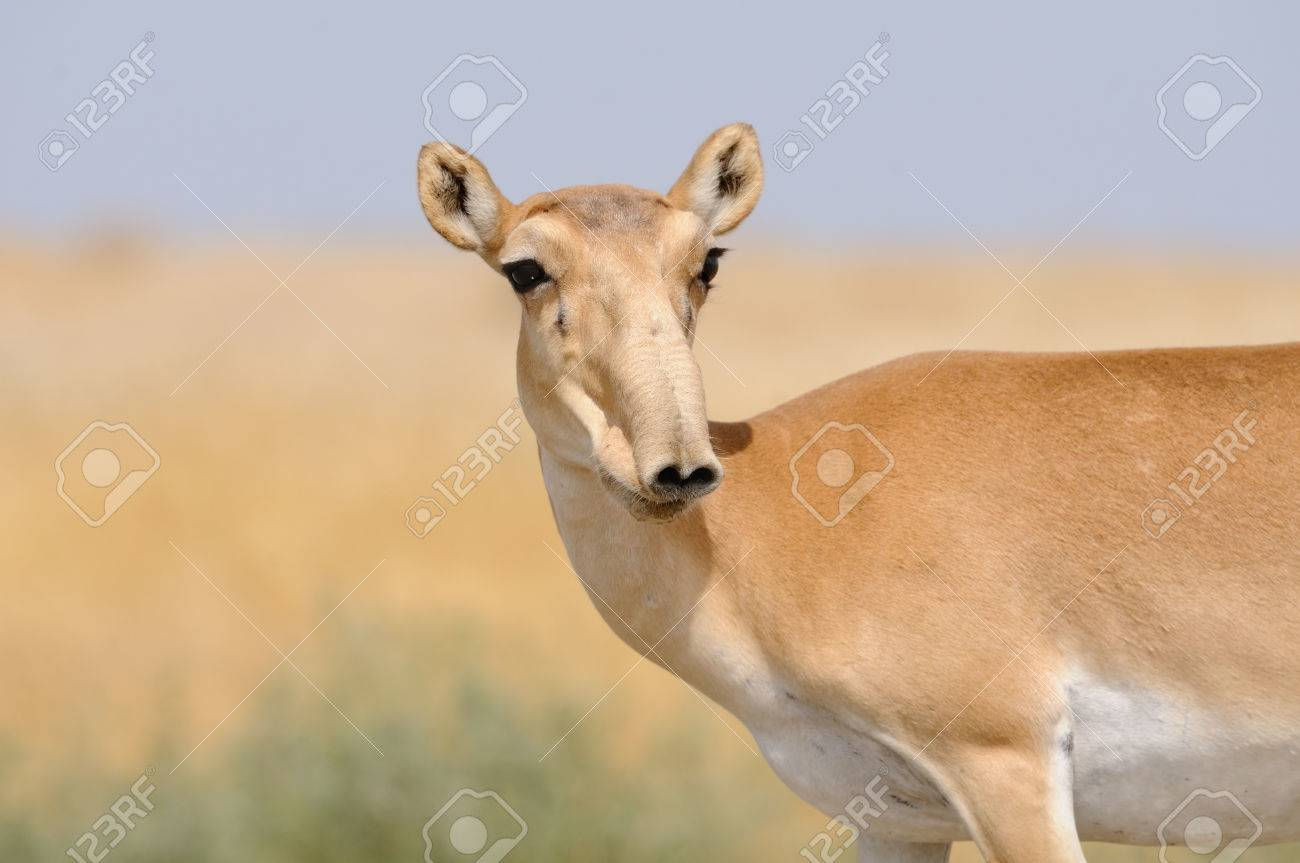saiga: (418, 120, 1300, 863)
